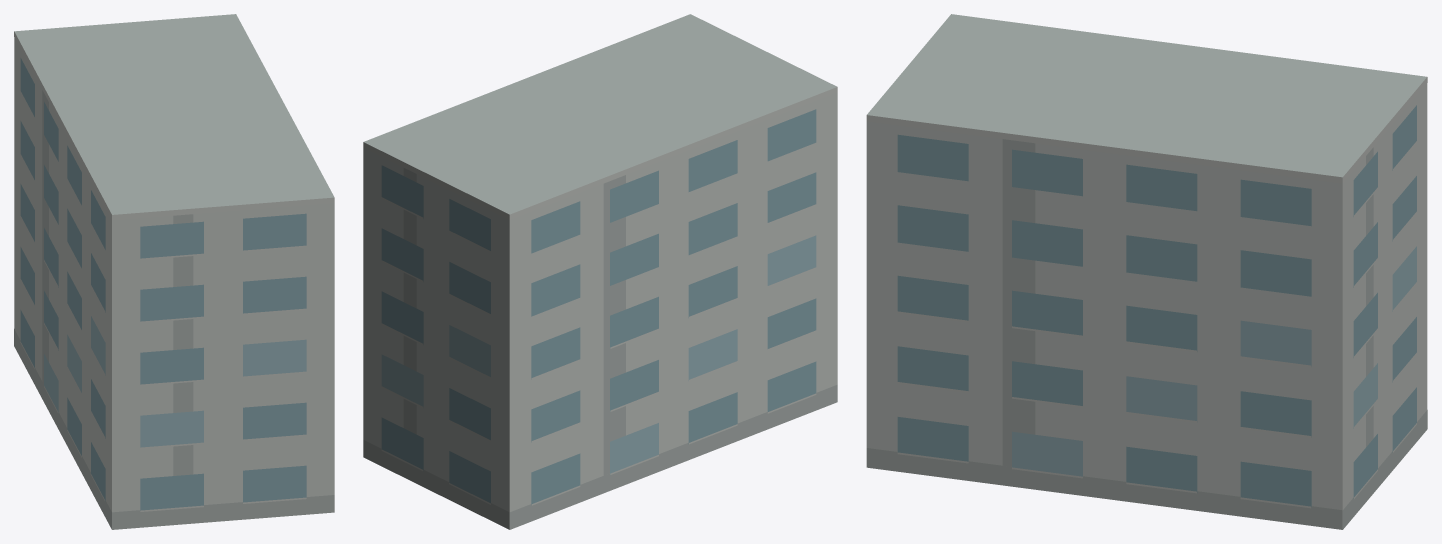
Rendered from survey-upis-32975283.glb.
3 views of the same model, side by side, from view 1: azimuth 30°, elevation 25°; view 2: azimuth 150°, elevation 25°; view 3: azimuth 270°, elevation 25° (orthographic). The views are drawn at different scales.
Parts seen in each view (by area): view 1: survey-upis-32975283.tmp; view 2: survey-upis-32975283.tmp; view 3: survey-upis-32975283.tmp.
Part boxes in pixels (bbox=[...]): survey-upis-32975283.tmp: bbox=[14, 14, 334, 529]; survey-upis-32975283.tmp: bbox=[363, 14, 837, 529]; survey-upis-32975283.tmp: bbox=[866, 14, 1427, 529].
Bounding box in the file's own units: 13.67 × 13.75 × 19.83.
